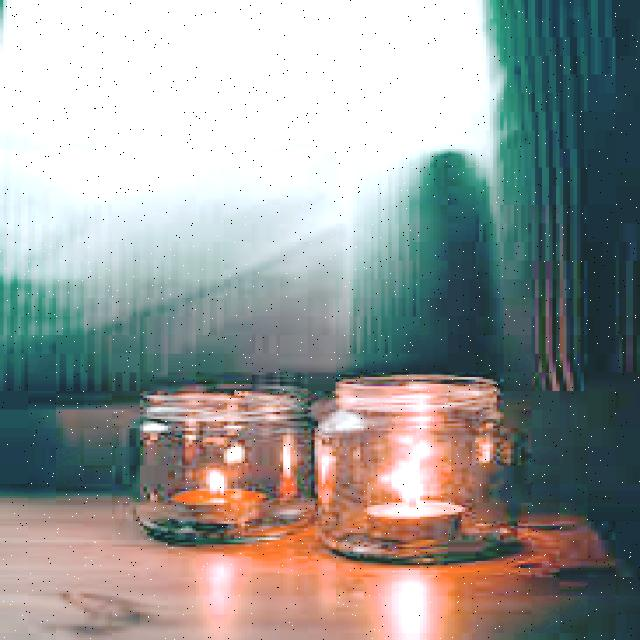api: (393, 462, 428, 497), (197, 462, 232, 492)
